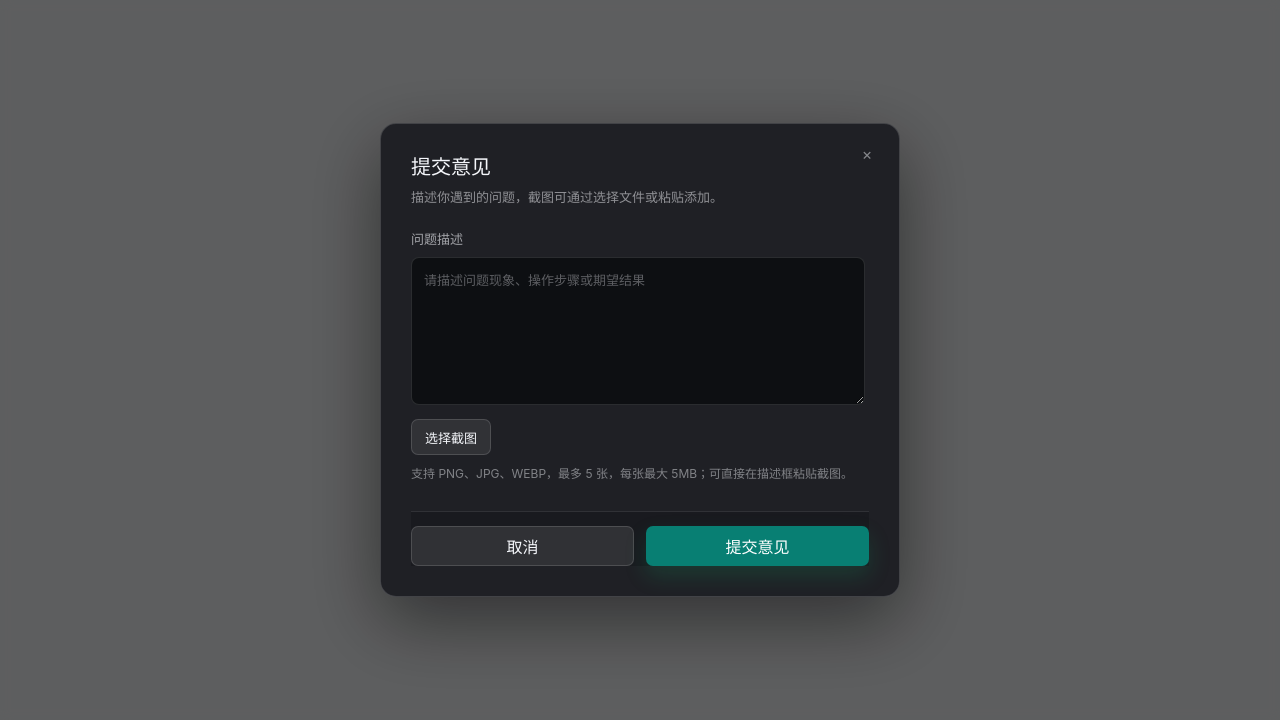
SubmitFeedbackDialog › 空描述不能提交并提示请填写问题描述
The width and height of the screenshot is (1280, 720).
Click the button "提交意见" at (758, 546), box left=646, top=526, right=869, bottom=566
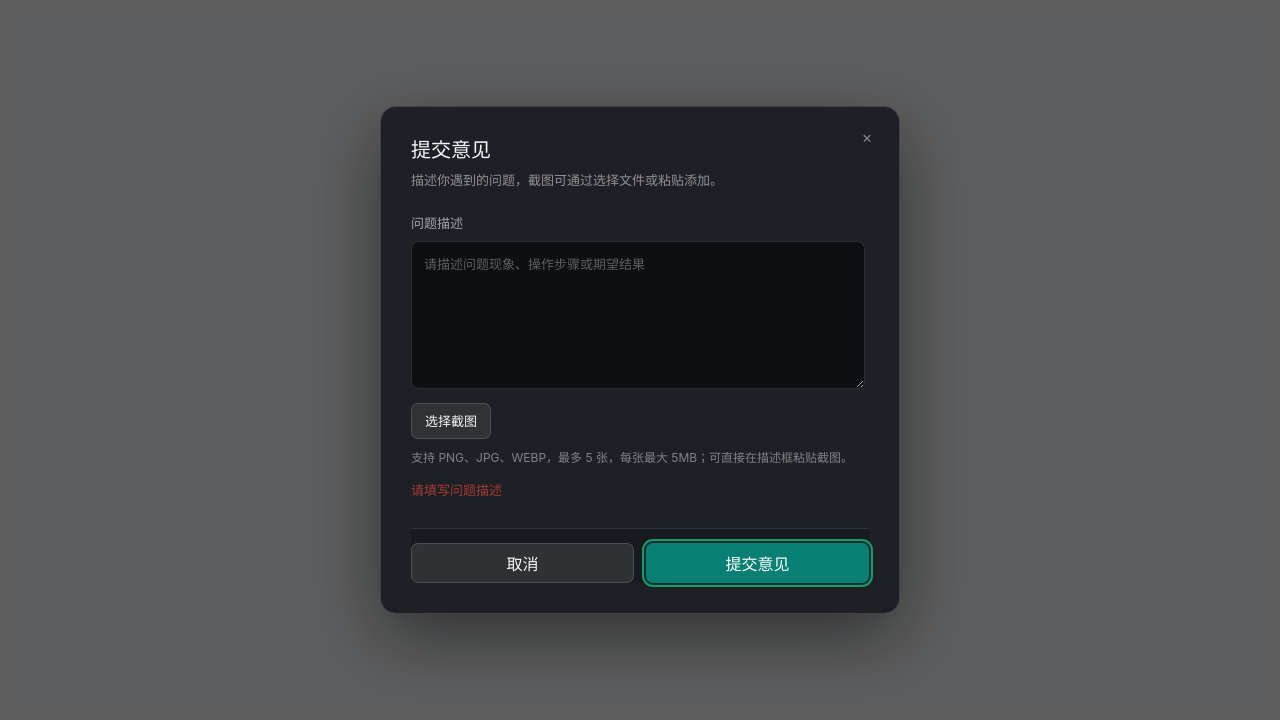
Result: the text "请填写问题描述" is shown at left=411, top=482, right=502, bottom=498
